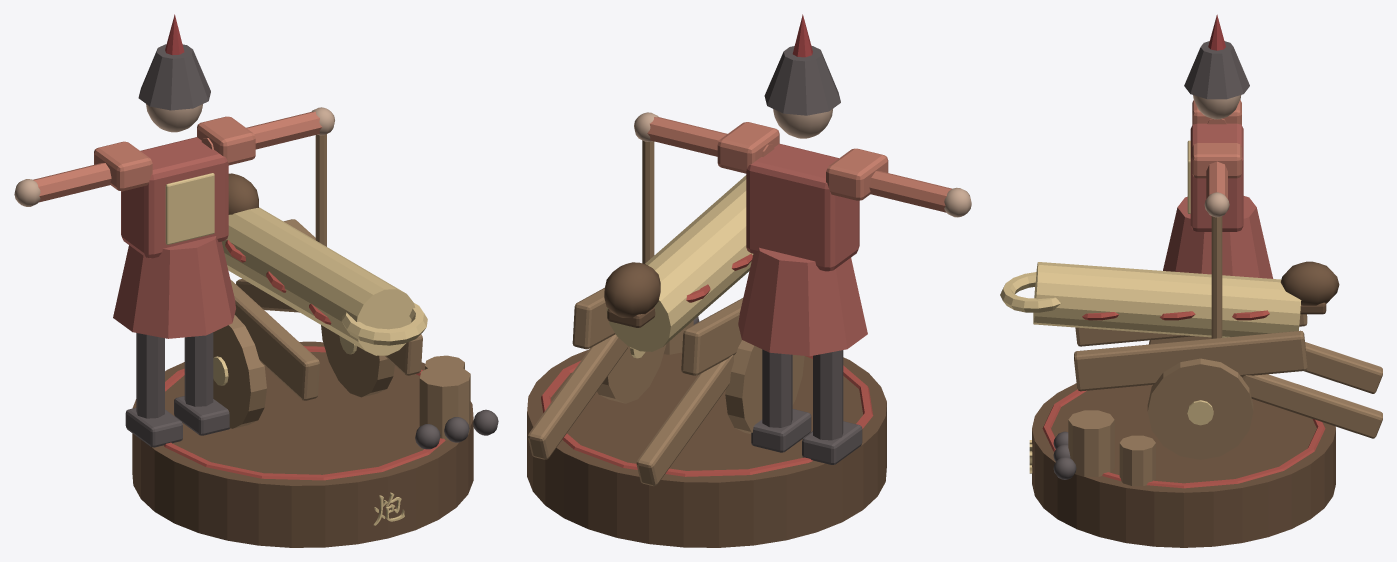
Rendered from cannon_red.glb.
The picture shows the model from 3 angles, left to right: view 1: azimuth 30°, elevation 25°; view 2: azimuth 150°, elevation 25°; view 3: azimuth 270°, elevation 25°; orthographic projection. The views are drawn at different scales.
Parts seen in each view (by area): view 1: base, cn_barrel, cn_crew_skirt, cn_crew_cuirass, cn_cheek_-0.16, cn_wheel_-0.2, cn_crew_tiekui, cn_crew_plastron, cn_keg1, cn_wheel_0.2, cn_crew_leg_-0.075, base_trim_top (+14 smaller); view 2: base, cn_crew_skirt, cn_crew_cuirass, cn_barrel, cn_trail_-0.16, cn_trail_0.16, cn_crew_tiekui, cn_wheel_-0.2, cn_cheek_-0.16, base_trim_top, cn_crew_leg_-0.075, cn_beast (+12 smaller); view 3: base, cn_barrel, cn_cheek_0.16, cn_wheel_0.2, cn_crew_skirt, cn_trail_0.16, cn_crew_cuirass, cn_keg1, cn_crew_tiekui, cn_trail_-0.16, base_trim_top, cn_beast (+10 smaller).
Part boxes in pixels (bbox=[...]): base: bbox=[132, 341, 473, 547]; cn_barrel: bbox=[222, 207, 415, 355]; cn_crew_skirt: bbox=[113, 236, 235, 338]; cn_crew_cuirass: bbox=[121, 137, 228, 258]; cn_cheek_-0.16: bbox=[230, 279, 319, 400]; cn_wheel_-0.2: bbox=[213, 315, 266, 428]; cn_crew_tiekui: bbox=[138, 44, 210, 110]; cn_crew_plastron: bbox=[165, 173, 214, 244]; cn_keg1: bbox=[419, 365, 470, 440]; cn_wheel_0.2: bbox=[321, 325, 394, 397]; cn_crew_leg_-0.075: bbox=[136, 333, 164, 418]; base_trim_top: bbox=[164, 346, 445, 480]; base: bbox=[527, 349, 886, 547]; cn_crew_skirt: bbox=[738, 247, 867, 356]; cn_crew_cuirass: bbox=[746, 143, 859, 271]; cn_barrel: bbox=[606, 175, 753, 351]; cn_trail_-0.16: bbox=[636, 355, 733, 486]; cn_trail_0.16: bbox=[528, 334, 628, 459]; cn_crew_tiekui: bbox=[764, 45, 840, 115]; cn_wheel_-0.2: bbox=[725, 340, 804, 433]; cn_cheek_-0.16: bbox=[681, 298, 743, 375]; base_trim_top: bbox=[541, 356, 873, 476]; cn_crew_leg_-0.075: bbox=[813, 350, 843, 440]; cn_beast: bbox=[604, 262, 660, 317]; base: bbox=[1032, 383, 1335, 547]; cn_barrel: bbox=[1033, 262, 1301, 337]; cn_cheek_0.16: bbox=[1074, 330, 1307, 391]; cn_wheel_0.2: bbox=[1147, 358, 1253, 459]; cn_crew_skirt: bbox=[1163, 196, 1273, 278]; cn_trail_0.16: bbox=[1242, 374, 1382, 438]; cn_crew_cuirass: bbox=[1190, 123, 1243, 231]; cn_keg1: bbox=[1068, 410, 1114, 476]; cn_crew_tiekui: bbox=[1184, 41, 1249, 99]; cn_trail_-0.16: bbox=[1304, 342, 1382, 393]; base_trim_top: bbox=[1042, 389, 1325, 488]; cn_beast: bbox=[1280, 261, 1339, 305].
Size of the model in its own units: 1.29 by 1.41 by 1.16.
